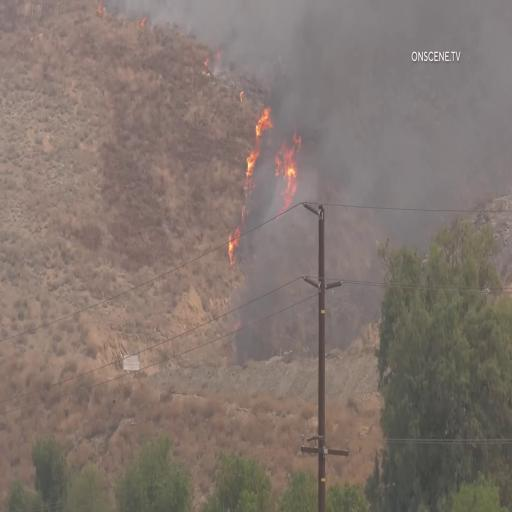fire: (256, 145, 320, 208)
